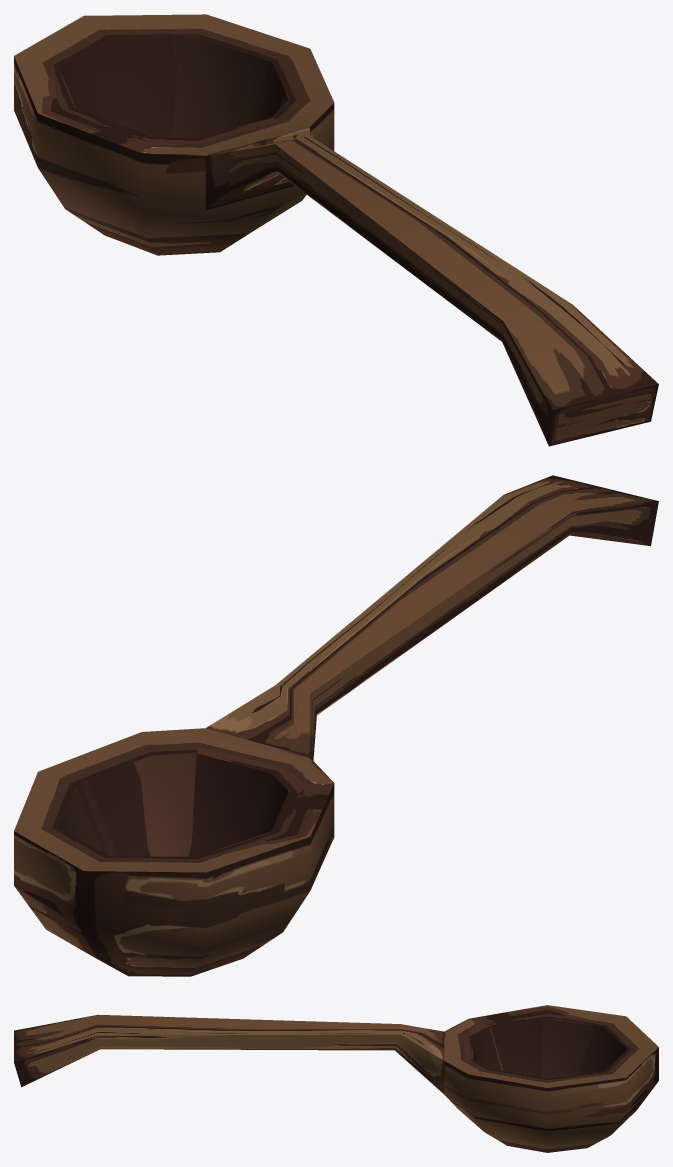
Rendered from SM_PROP_spoon_dungeon_01.fbx.
The picture shows the model from 3 angles, top to bottom: view 1: azimuth 30°, elevation 25°; view 2: azimuth 150°, elevation 25°; view 3: azimuth 270°, elevation 25°; orthographic projection. The views are drawn at different scales.
Visible parts, largest first — view 1: SM_PROP_spoon_dungeon_01; view 2: SM_PROP_spoon_dungeon_01; view 3: SM_PROP_spoon_dungeon_01.
Part boxes in pixels (x1,y1,x2,y2): SM_PROP_spoon_dungeon_01: (14,14,658,446); SM_PROP_spoon_dungeon_01: (14,475,658,976); SM_PROP_spoon_dungeon_01: (14,1005,658,1152).
Bounding box in the file's own units: 5.38 × 3.5 × 17.87.
